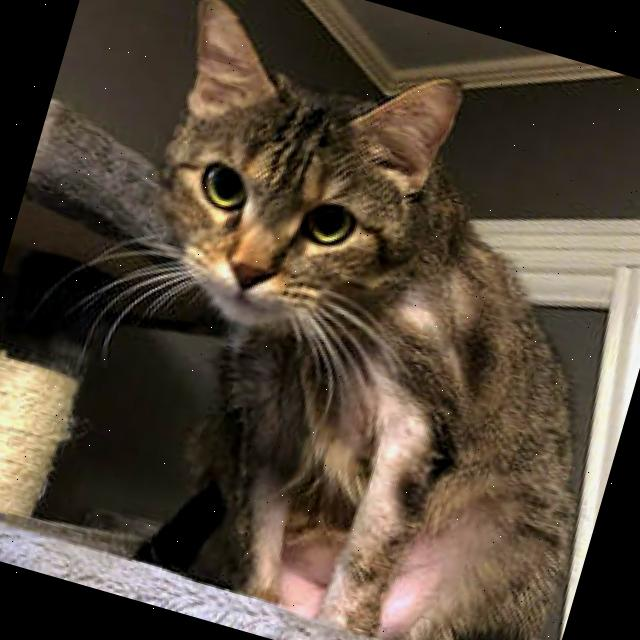cat-hairloss: (348, 368, 437, 452), (390, 529, 458, 624), (280, 536, 340, 612), (400, 297, 444, 331)
